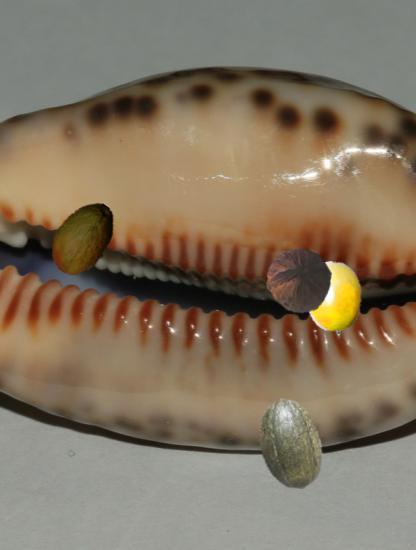Maracuja: (298, 261, 372, 335)
Melon: (243, 398, 336, 491)
Papaya: (45, 199, 125, 279)
Walnut: (266, 247, 334, 315)
